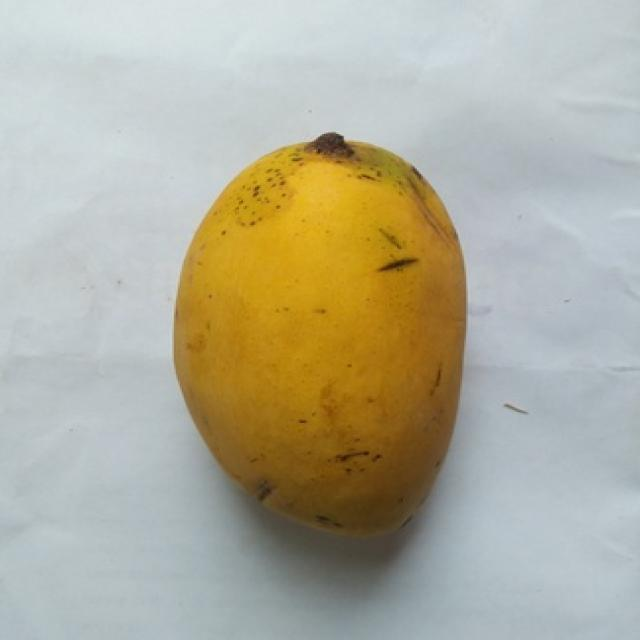Mango: (176, 132, 464, 533)
